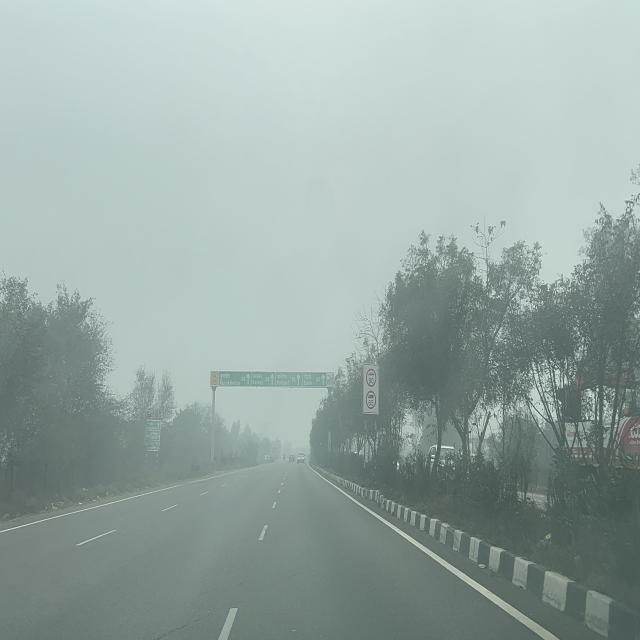GENERAL: (210, 371, 335, 388), (144, 419, 160, 452)
